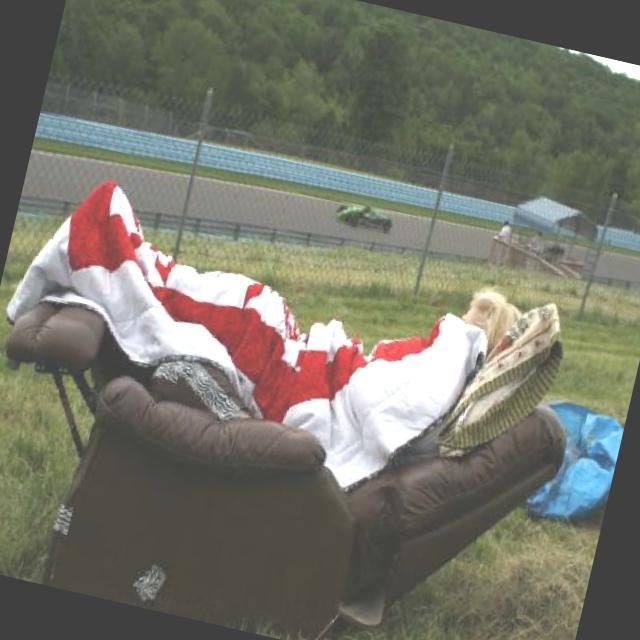Person: (47, 157, 576, 608)
